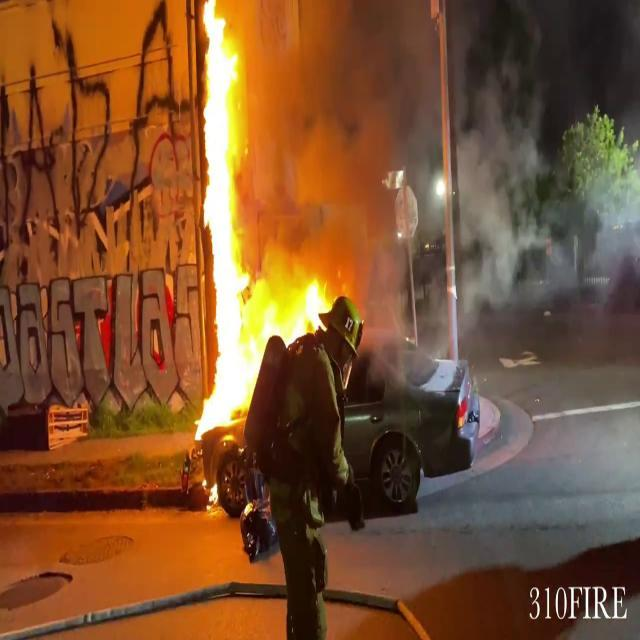Fire: (195, 1, 257, 442), (252, 268, 326, 352)
Smoke: (237, 0, 640, 308), (454, 0, 640, 316)
